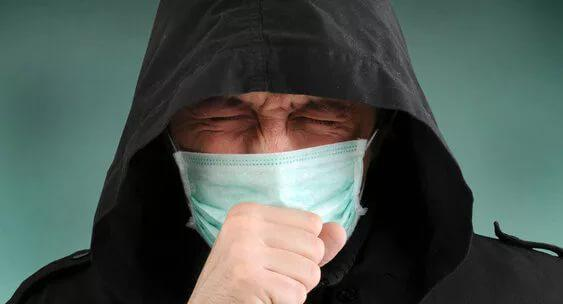mask: (171, 74, 366, 262)
